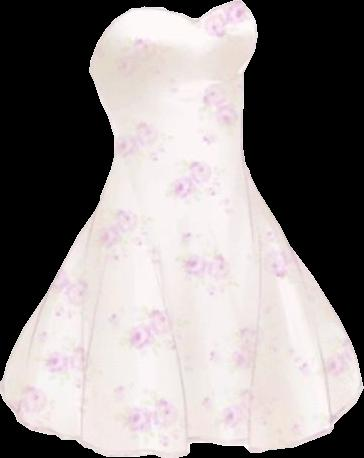Bodice: (89, 0, 257, 150)
Hemline: (0, 383, 363, 457)
Neckline: (85, 0, 243, 69)
Skirt: (0, 151, 363, 457)
